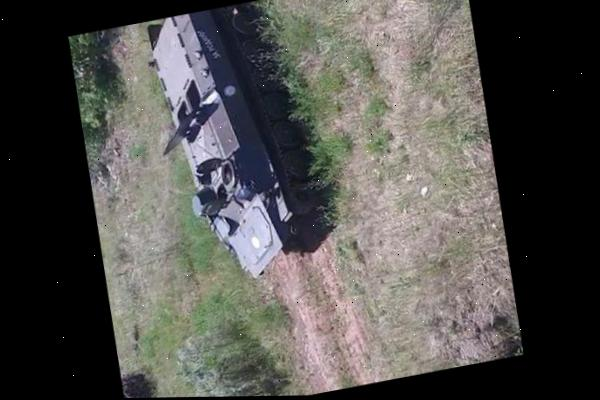tank: (134, 0, 336, 294)
